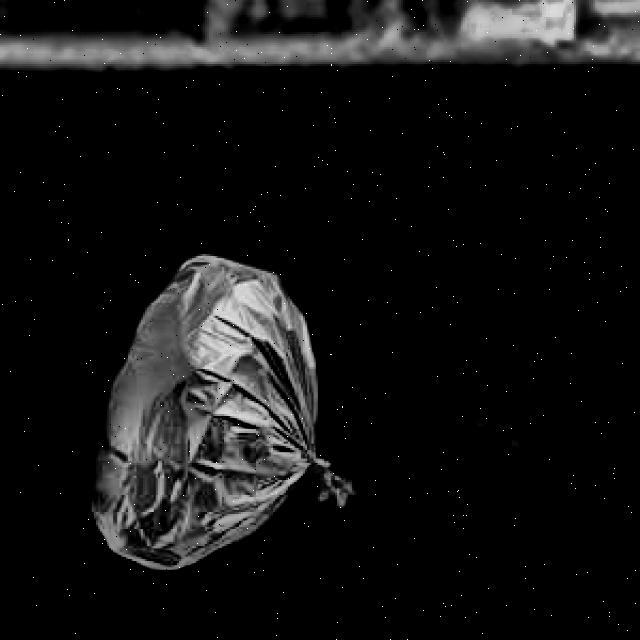Trashbag: (90, 253, 351, 572)
